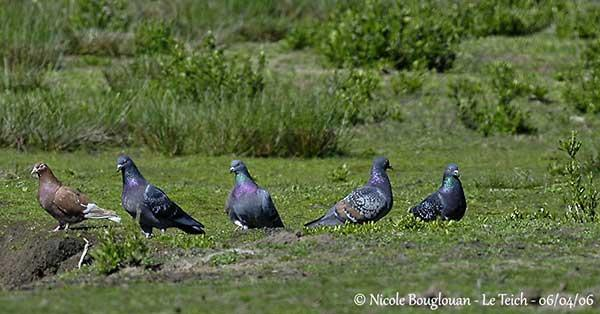Flying Rat: (108, 153, 206, 239), (309, 155, 394, 231), (27, 159, 103, 227), (225, 157, 284, 234), (419, 163, 472, 224)
